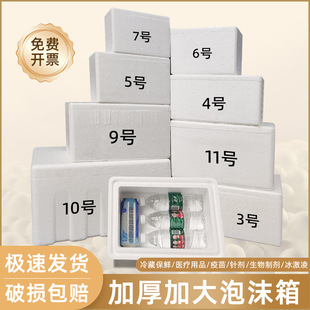Boxes: (32, 9, 281, 265)
